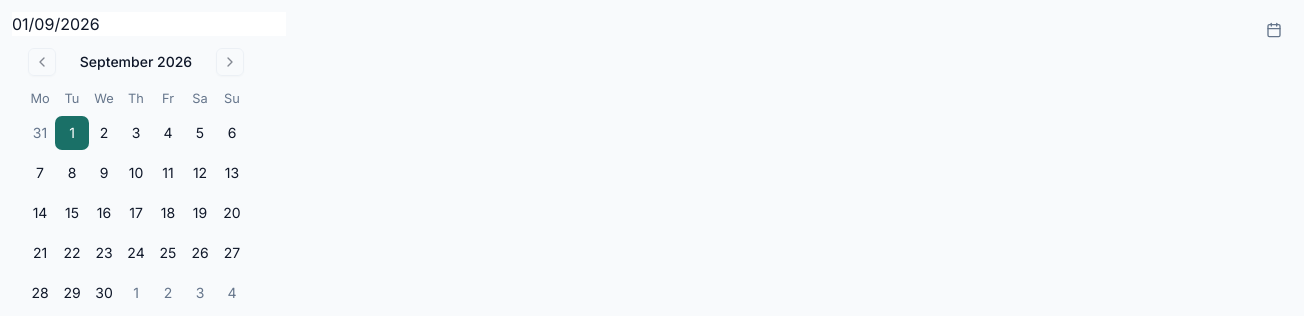
Test: calendar selection returns the same ISO value as UK text entry
The image size is (1304, 316).
Click the cell "15": click(72, 213) [56,197,88,229]
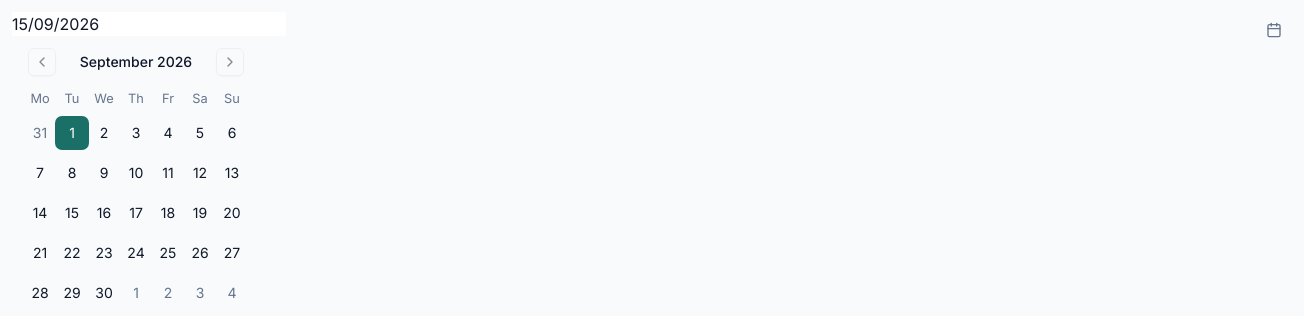
Result: the field holds "15/09/2026" at [12,12,286,36]
